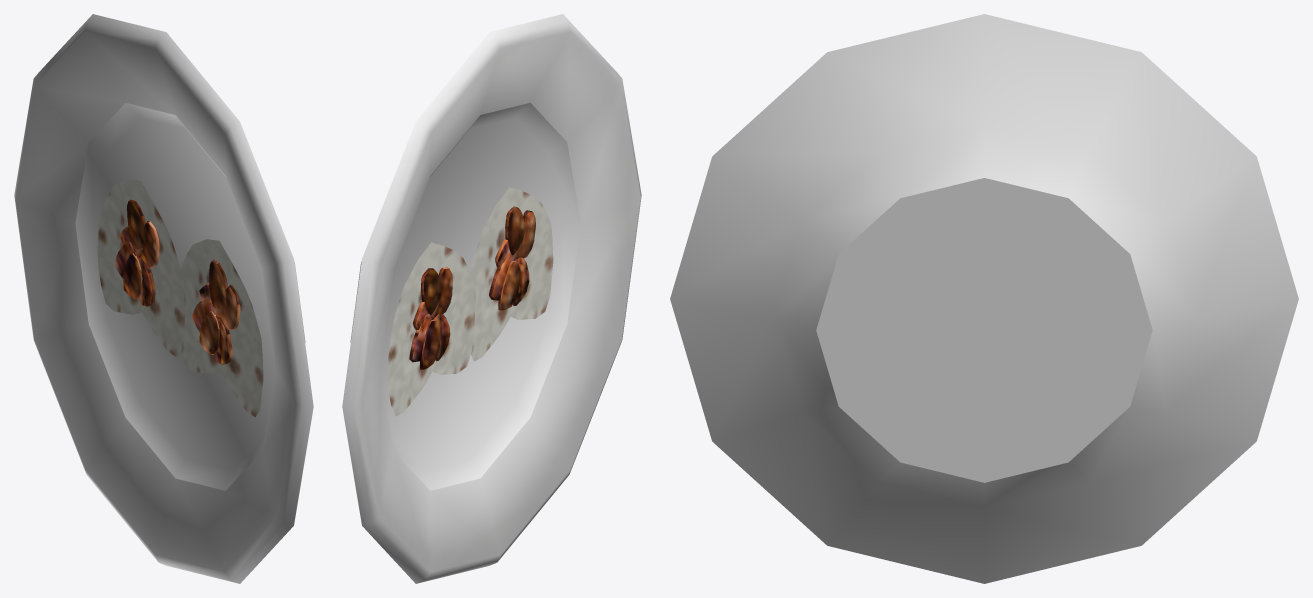
The model's file is AL_TacosCorazon_Static.fbx.
The picture shows the model from 3 angles, left to right: view 1: azimuth 30°, elevation 25°; view 2: azimuth 150°, elevation 25°; view 3: azimuth 270°, elevation 25°; orthographic projection. The views are drawn at different scales.
Parts seen in each view (by area): view 1: FishFillet.001; view 2: FishFillet.001; view 3: FishFillet.001.
Boxes of the visible parts, x1,y1,x2,y2 form: FishFillet.001: (14,14,313,583); FishFillet.001: (342,14,641,583); FishFillet.001: (670,14,1298,583).
Bounding box in the file's own units: 0.4018 × 0.4018 × 0.0563.
